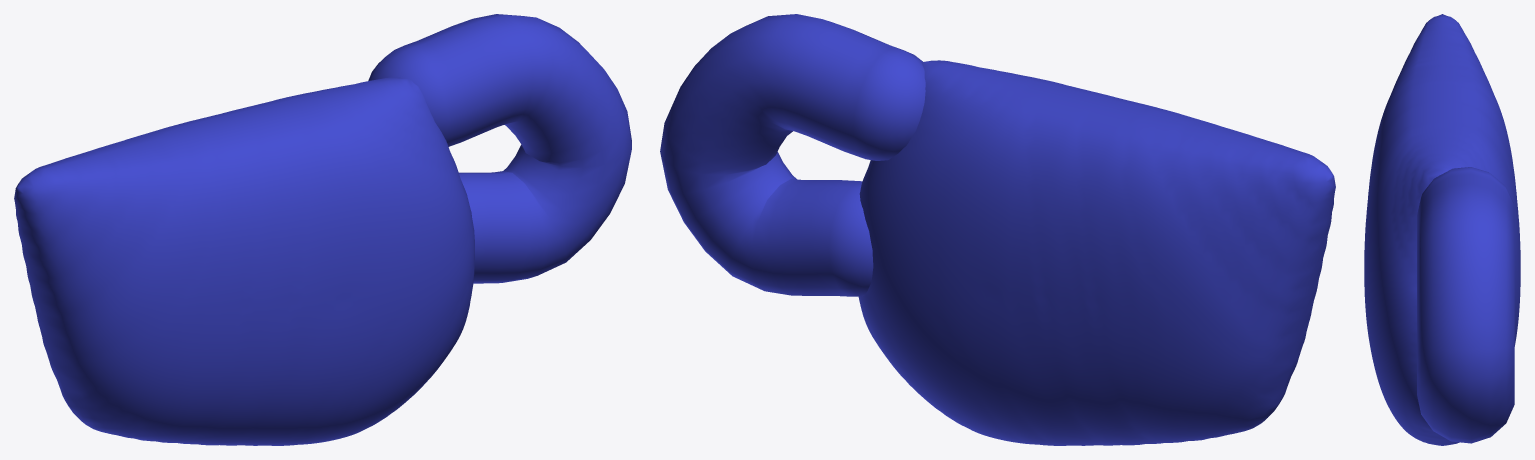
Rendered from cupOfTea.fbx.
3 renders of one model, left to right at view 1: azimuth 30°, elevation 25°; view 2: azimuth 150°, elevation 25°; view 3: azimuth 270°, elevation 25°, orthographic. The views are drawn at different scales.
Parts seen in each view (by area): view 1: root (×2); view 2: root (×2); view 3: root (×2).
Part boxes in pixels (box(x1,y1,x2,y2)): root (×2): box(14, 14, 631, 445); root (×2): box(660, 14, 1335, 445); root (×2): box(1364, 14, 1520, 445).
Size of the model in its own units: 0.3862 by 0.2139 by 0.0949.
